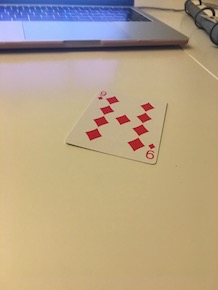NineOfDiamonds: (65, 87, 173, 168)
